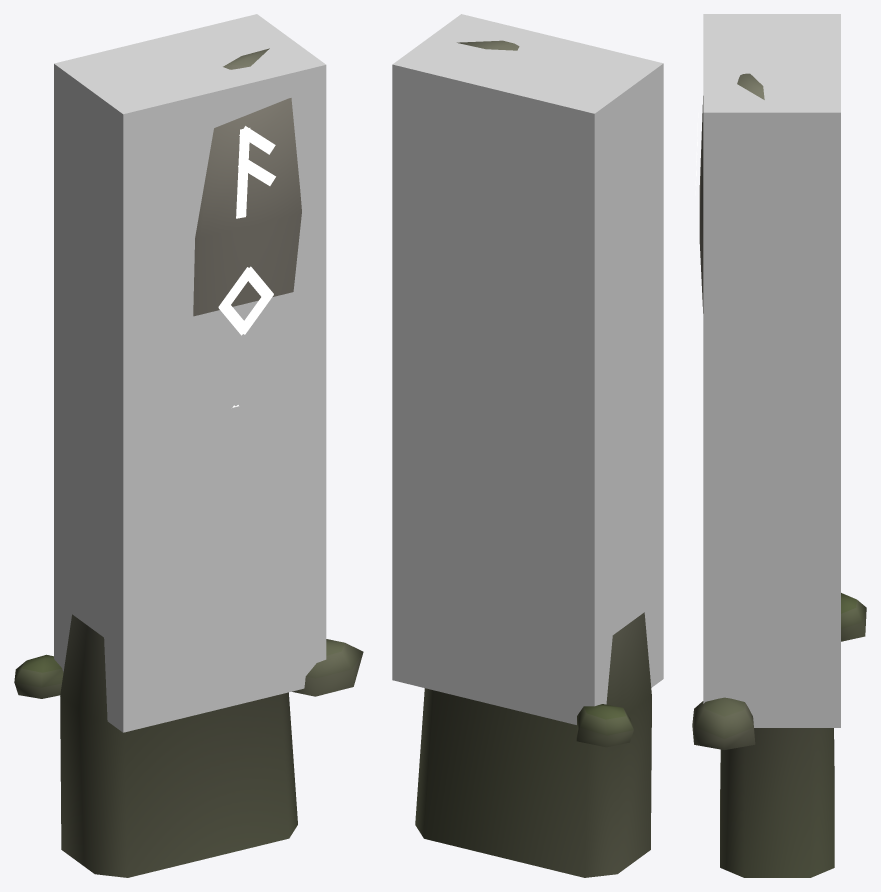
File: standing_stone_a.glb
The picture shows the model from 3 angles, left to right: view 1: azimuth 30°, elevation 25°; view 2: azimuth 150°, elevation 25°; view 3: azimuth 270°, elevation 25°; orthographic projection.
Visible parts, largest first — view 1: COL_stone, standing_stone_a; view 2: COL_stone, standing_stone_a; view 3: COL_stone, standing_stone_a.
Part boxes in pixels (left/top/right/bottom): COL_stone: left=54, top=14, right=326, bottom=732; standing_stone_a: left=14, top=48, right=363, bottom=877; COL_stone: left=392, top=14, right=663, bottom=724; standing_stone_a: left=415, top=40, right=651, bottom=877; COL_stone: left=703, top=14, right=840, bottom=727; standing_stone_a: left=692, top=73, right=866, bottom=877.
Bounding box in the file's own units: 1.57 × 4.02 × 0.8222.
